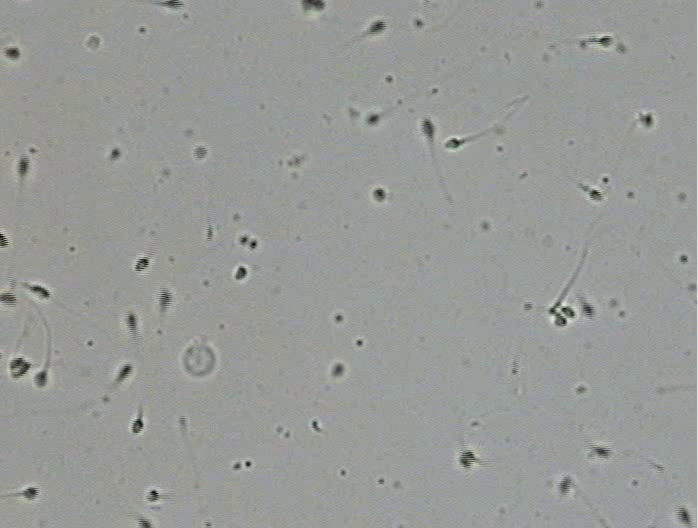Impurity: (183, 345, 216, 377), (86, 36, 101, 49)
S: (9, 356, 32, 378), (459, 448, 478, 470), (27, 284, 51, 300), (157, 288, 173, 310), (17, 154, 30, 178), (116, 364, 132, 383), (676, 506, 691, 526), (367, 20, 386, 35), (592, 444, 612, 458), (558, 476, 572, 496), (1, 290, 17, 307), (301, 1, 325, 12), (134, 256, 150, 272), (33, 370, 48, 387), (422, 119, 435, 138), (22, 487, 40, 500), (160, 1, 185, 10), (126, 313, 137, 333), (582, 302, 594, 320), (193, 146, 208, 160), (234, 265, 248, 280), (373, 188, 387, 203), (131, 418, 144, 434), (597, 35, 614, 47), (332, 362, 345, 377), (4, 47, 20, 59), (589, 189, 604, 201), (561, 306, 576, 318), (136, 517, 152, 528), (445, 138, 461, 149), (146, 489, 159, 502), (366, 113, 380, 125), (641, 113, 653, 127), (1, 232, 10, 249), (554, 315, 567, 326), (110, 148, 120, 160)
